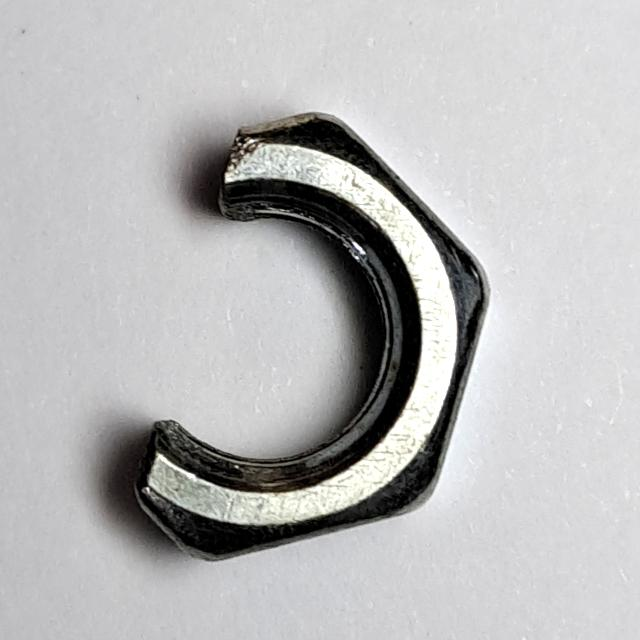Fracture: (125, 100, 505, 576)
